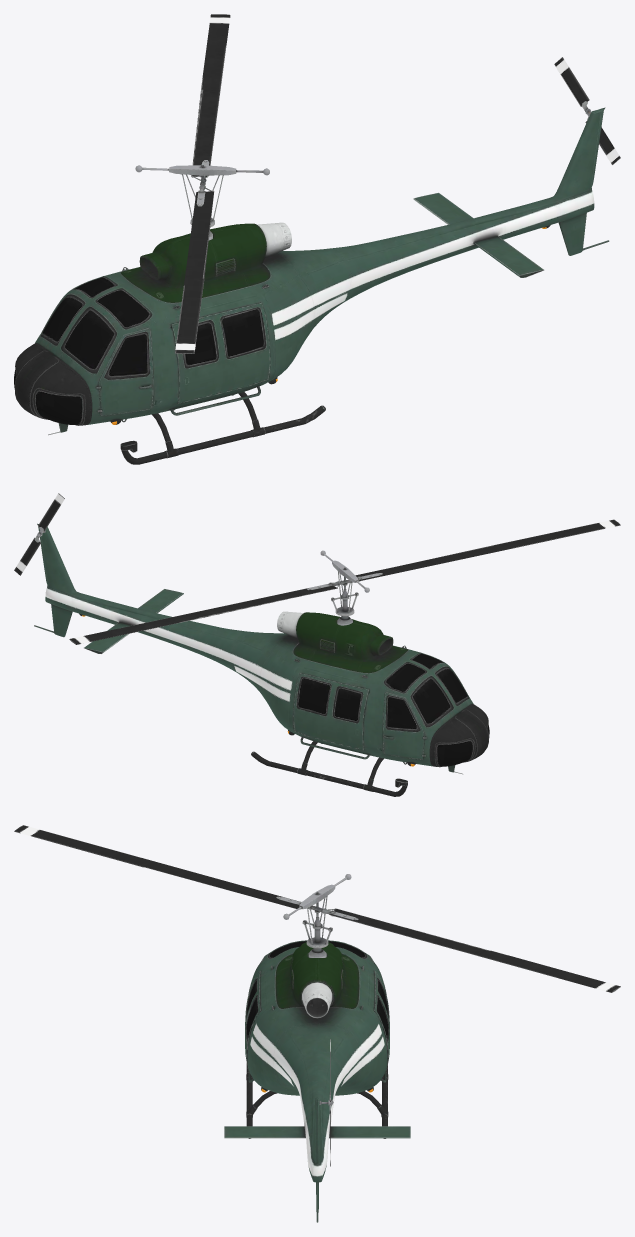
The model's file is heli_206.glb.
3 renders of one model, top to bottom at view 1: azimuth 30°, elevation 25°; view 2: azimuth 150°, elevation 25°; view 3: azimuth 270°, elevation 25°, orthographic. The views are drawn at different scales.
Parts seen in each view (by area): view 1: Object_4, rotor_main, Object_3, rotor_tail; view 2: Object_4, rotor_main, Object_3, rotor_tail; view 3: Object_4, rotor_main, Object_3.
Boxes of the visible parts, x1=… form: Object_4: x1=14, y1=107, x2=609, y2=464; rotor_main: x1=135, y1=14, x2=269, y2=353; Object_3: x1=14, y1=218, x2=270, y2=425; rotor_tail: x1=554, y1=57, x2=620, y2=164; Object_4: x1=34, y1=523, x2=489, y2=796; rotor_main: x1=69, y1=519, x2=620, y2=644; Object_3: x1=293, y1=589, x2=488, y2=766; rotor_tail: x1=14, y1=493, x2=64, y2=575; Object_4: x1=224, y1=896, x2=410, y2=1222; rotor_main: x1=14, y1=825, x2=620, y2=992; Object_3: x1=245, y1=917, x2=389, y2=1042.
Bounding box in the file's own units: 1224 × 491 × 1175.
Materials: 1 (1 with a texture image).
